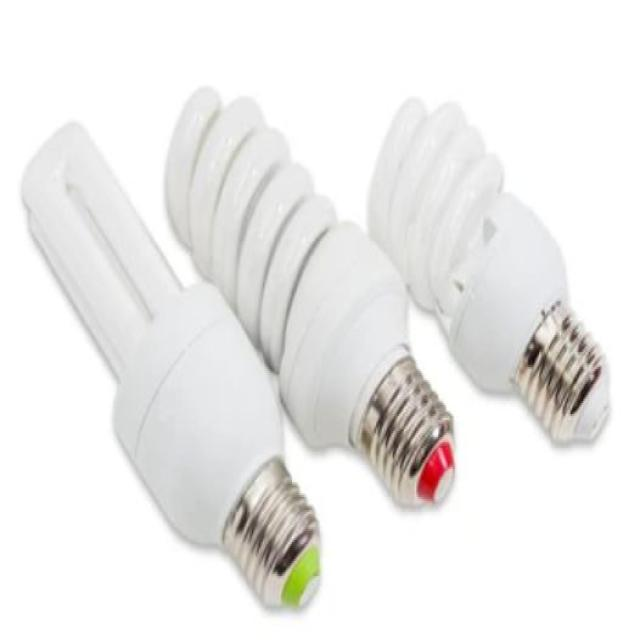electronic: (20, 116, 322, 612), (162, 83, 456, 508), (365, 92, 612, 446)
